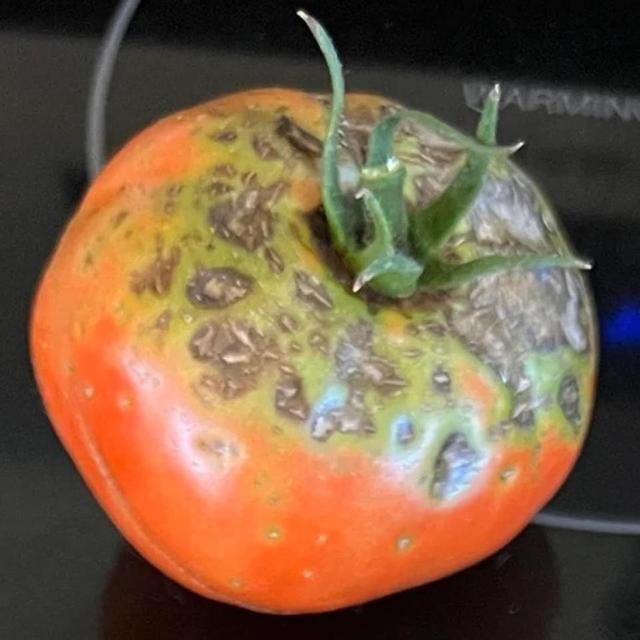Spotted wilt Virus Fruit: (53, 37, 126, 143)
